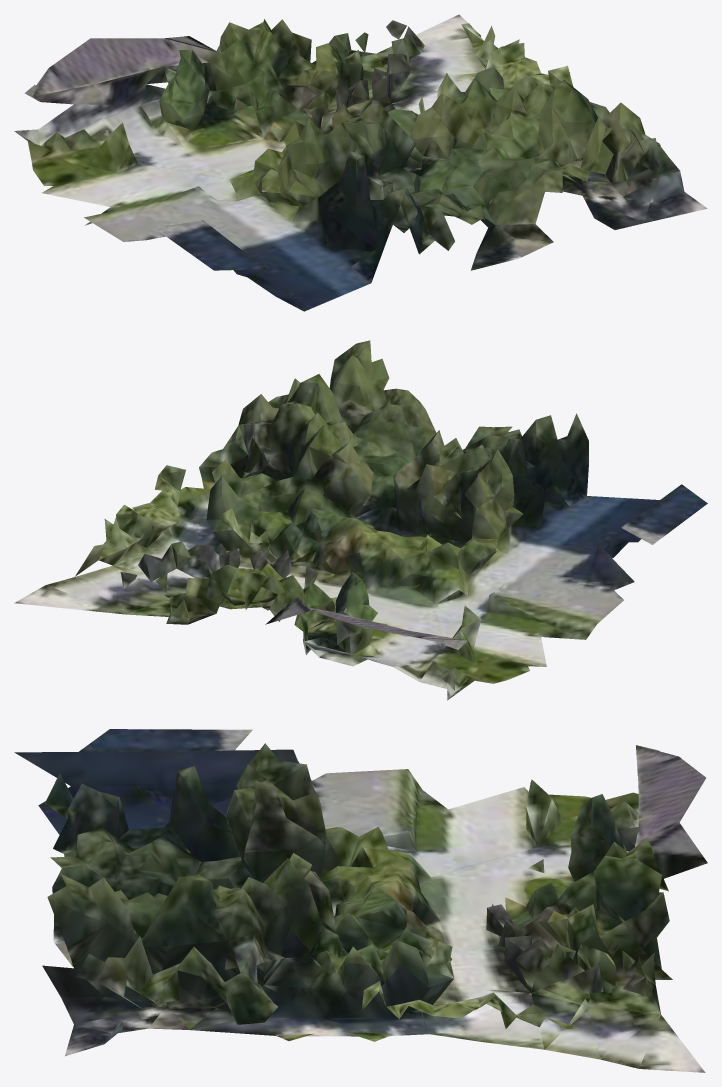
The model's file is Tile_+004_+005_L17_00.glb.
3 views of the same model, one above another, from view 1: azimuth 30°, elevation 25°; view 2: azimuth 150°, elevation 25°; view 3: azimuth 270°, elevation 25° (orthographic). The views are drawn at different scales.
Visible parts, largest first — view 1: rtc; view 2: rtc; view 3: rtc.
Part boxes in pixels (left/top/right/bottom): rtc: left=14, top=14, right=707, bottom=311; rtc: left=14, top=340, right=707, bottom=700; rtc: left=14, top=729, right=707, bottom=1072.
Size of the model in its own units: 60.62 by 13.71 by 60.7.
Materials: 1 (1 with a texture image).
